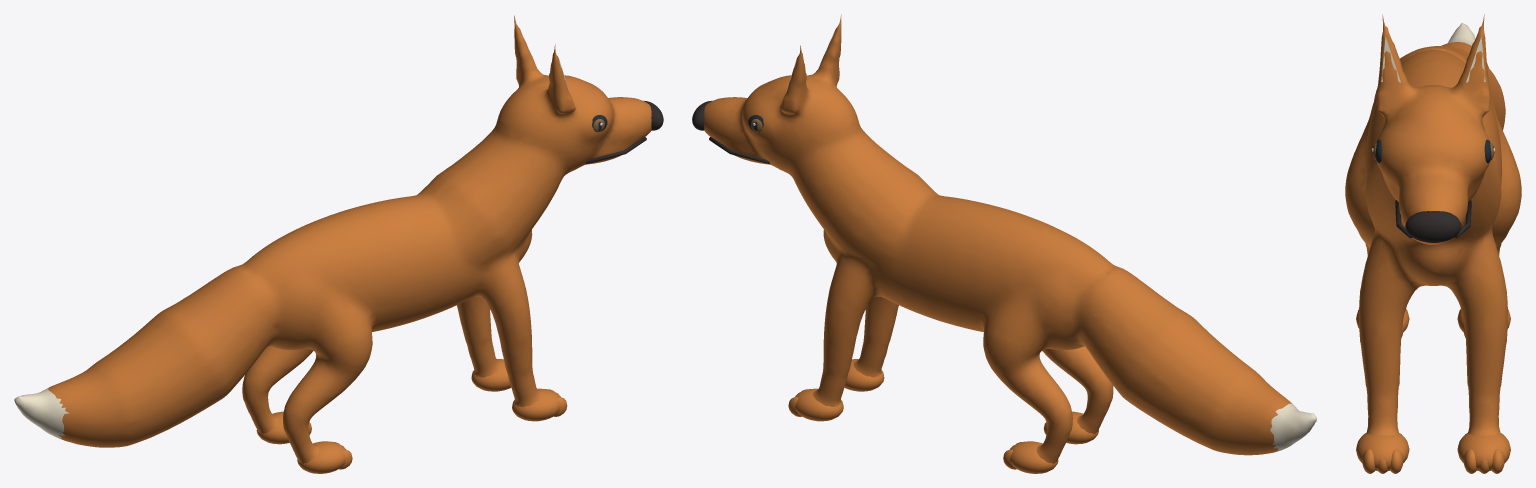
Rendered from nature-red-fox.glb.
3 views of the same model, side by side, from view 1: azimuth 30°, elevation 25°; view 2: azimuth 150°, elevation 25°; view 3: azimuth 270°, elevation 25° (orthographic). The views are drawn at different scales.
Parts seen in each view (by area): view 1: Continuous anatomical skin, Rounded paw.001, Rounded paw, Rounded paw.002; view 2: Continuous anatomical skin, Rounded paw.003, Rounded paw.002, Rounded paw; view 3: Continuous anatomical skin, Nose, Rounded paw, Rounded paw.002, Toe, Toe.008, Toe.002, Toe.006.
Part boxes in pixels (bbox=[...]): Continuous anatomical skin: bbox=[14, 15, 651, 463]; Rounded paw.001: bbox=[297, 441, 345, 473]; Rounded paw: bbox=[512, 388, 560, 421]; Rounded paw.002: bbox=[471, 359, 510, 391]; Continuous anatomical skin: bbox=[704, 14, 1316, 463]; Rounded paw.003: bbox=[1010, 441, 1058, 473]; Rounded paw.002: bbox=[795, 388, 843, 421]; Rounded paw: bbox=[844, 359, 884, 391]; Continuous anatomical skin: bbox=[1345, 14, 1521, 435]; Nose: bbox=[1405, 211, 1461, 242]; Rounded paw: bbox=[1356, 433, 1409, 470]; Rounded paw.002: bbox=[1457, 433, 1510, 470]; Toe: bbox=[1362, 449, 1375, 473]; Toe.008: bbox=[1491, 449, 1504, 473]; Toe.002: bbox=[1390, 449, 1403, 473]; Toe.006: bbox=[1463, 449, 1476, 473].
Bounding box in the file's own units: 0.8918 × 0.5 × 0.1727.
6 materials, 6 textured.
